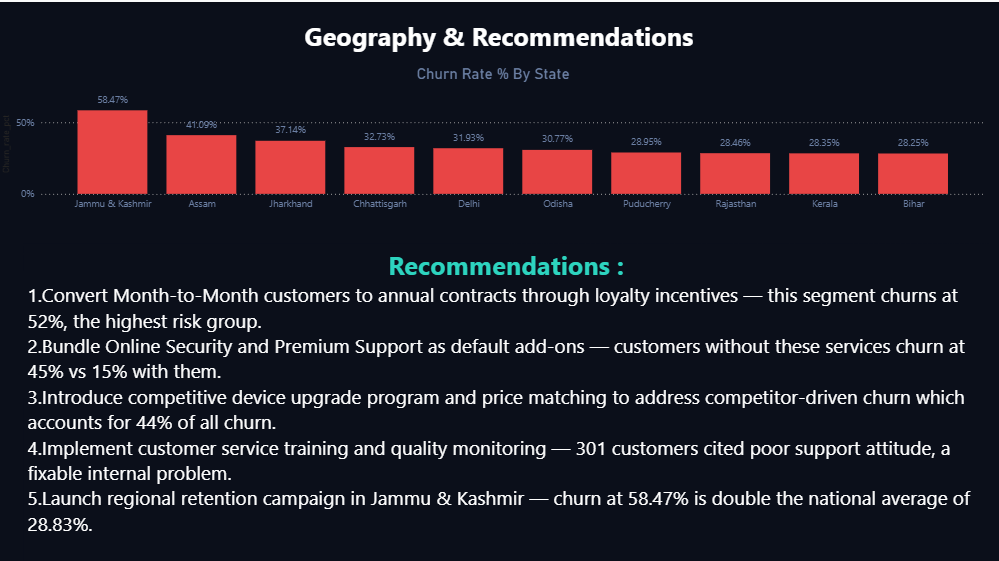

The page's visual inventory and layout, read from the dashboard file:
{"tool":"powerbi","page":{"name":"Geographical Segmentation & Recommendations","canvas":[1280,720],"ordinal":4},"visuals":[{"type":"textbox","box":[16,16,1232,64],"z":0},{"type":"columnChart","title":"Churn Rate % By State","fields":{"Category":["customer_data.State"],"Y":["customer_data.Churn_rate_pct"]},"box":[0,80,1248,192],"z":1000},{"type":"textbox","box":[32,304,1216,416],"z":2000}]}

Visuals, with their boxes in screenshot pixels (x1, y1, x2, y2), scaled from the page's 1280x720 canvas onto the 999x561 screenshot:
textbox: (left=12, top=12, right=974, bottom=62)
"Churn Rate % By State" columnChart: (left=0, top=62, right=974, bottom=212)
textbox: (left=25, top=237, right=974, bottom=560)
